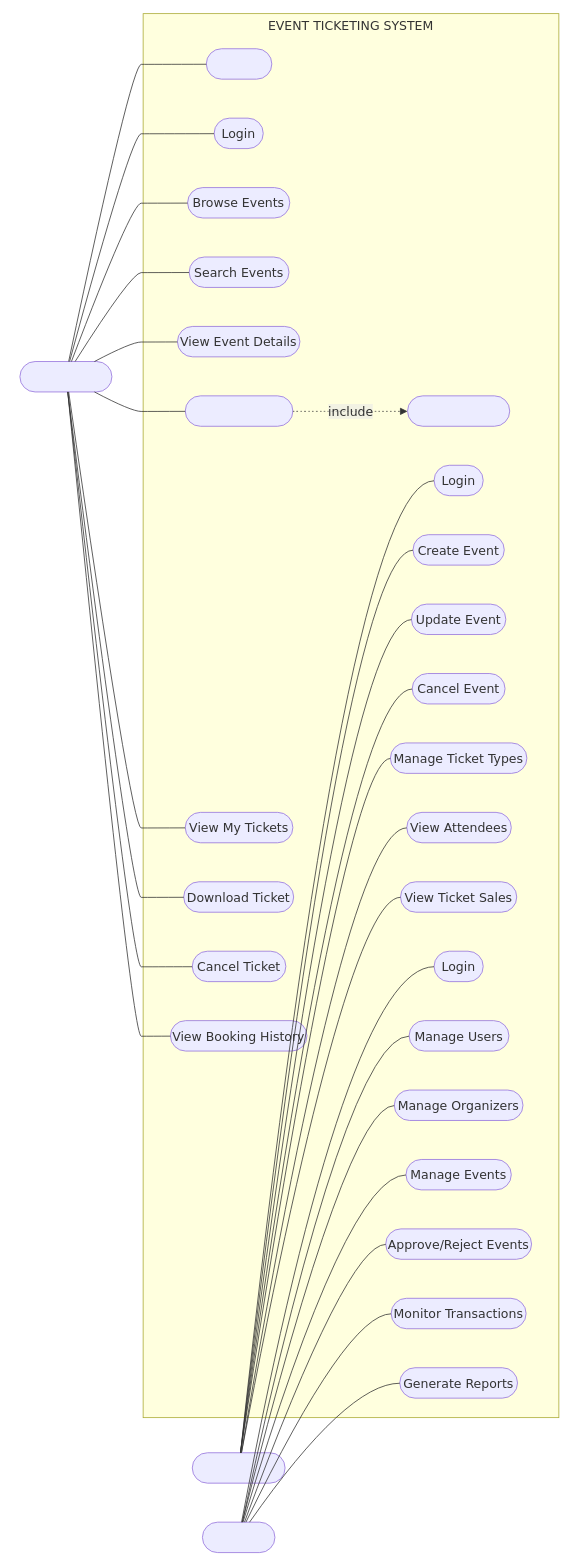
Some shapes in this 573 by 1566 pixel diagram are drawn without their labels. Each missing label, with the centre of its shape:
"Make Payment" belongs at (x=458, y=410).
"Purchase Ticket" belongs at (x=238, y=410).
"Register" belongs at (x=239, y=63).
"👤 Admin" belongs at (x=238, y=1537).
"👤 Customer" belongs at (x=65, y=376).
"👤 Organizer" belongs at (x=238, y=1467).
